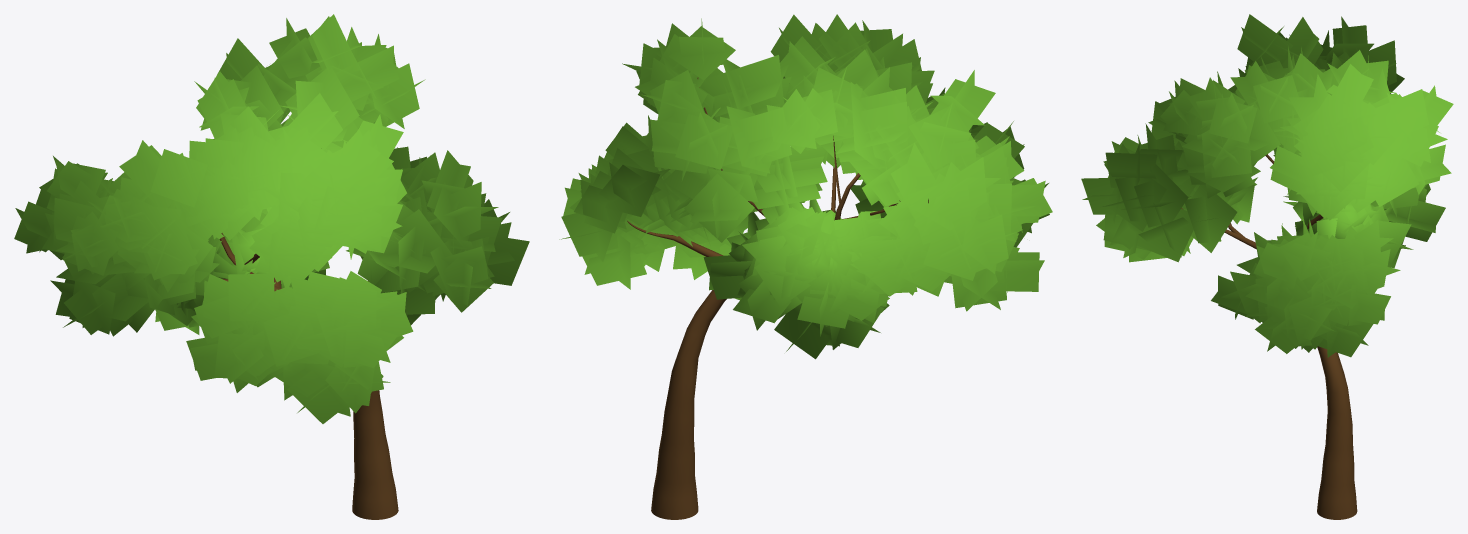
Rendered from SM_tree_fareast_02.fbx.
3 views of the same model, side by side, from view 1: azimuth 30°, elevation 25°; view 2: azimuth 150°, elevation 25°; view 3: azimuth 270°, elevation 25° (orthographic). The views are drawn at different scales.
Visible parts, largest first — view 1: tree001; view 2: tree001; view 3: tree001.
Part boxes in pixels (x1,y1,x2,y2): tree001: (14,14,529,519); tree001: (559,14,1052,519); tree001: (1081,14,1453,519).
Bounding box in the file's own units: 316 × 326 × 254.
